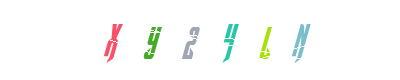2: (159, 0, 239, 80)
4: (190, 0, 270, 80)
L: (204, 0, 284, 80)
N: (225, 0, 305, 80)
X: (73, 0, 153, 80)
Y: (112, 0, 192, 80)
